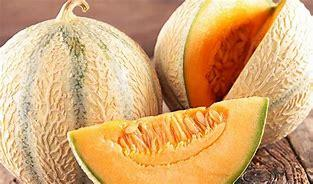Melon Ripe: (1, 0, 163, 184), (153, 0, 313, 145), (68, 98, 270, 184)
